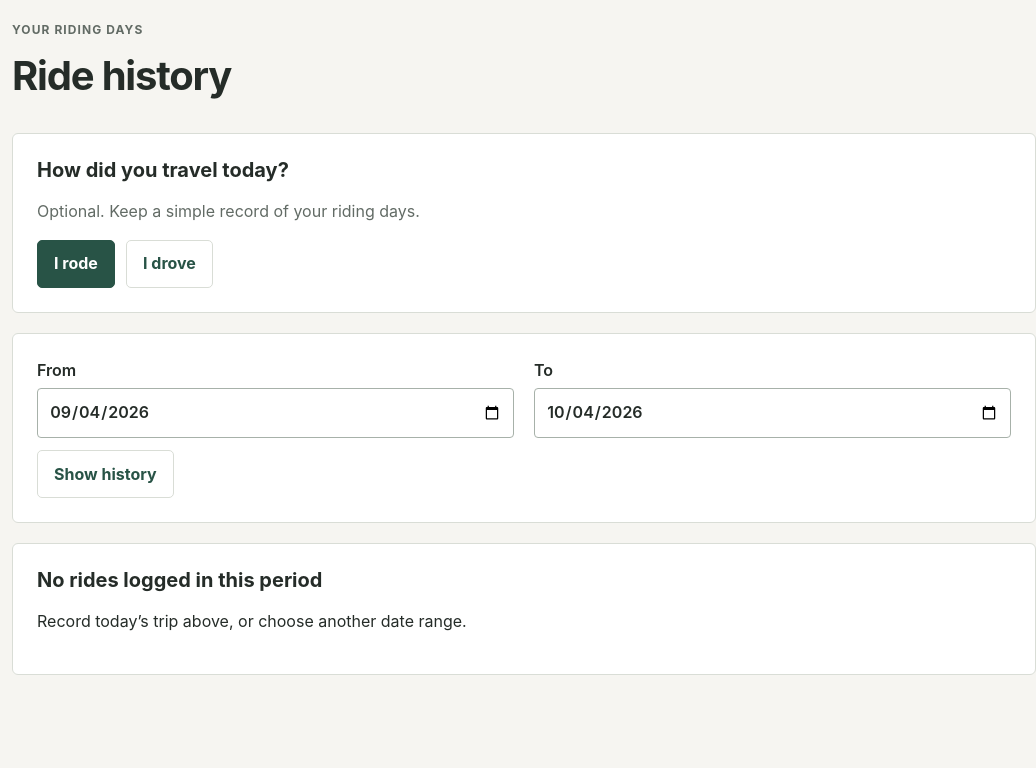
Test: explains empty history and records today without a fabricated user ID
The width and height of the screenshot is (1036, 768).
Check: the heading "No rides logged in this period" is shown, box [37,568,322,592]
Click the button "I rode": (76, 264) [37,240,115,288]
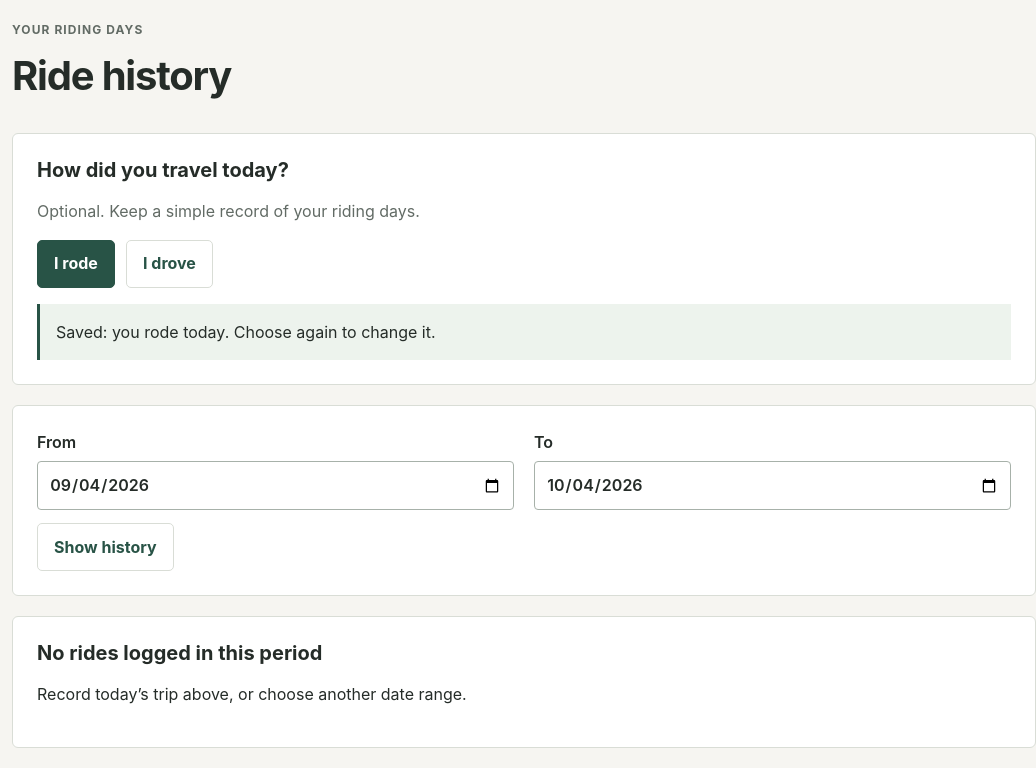
Check: the message shows "Saved: you rode today", box [56,322,436,342]
